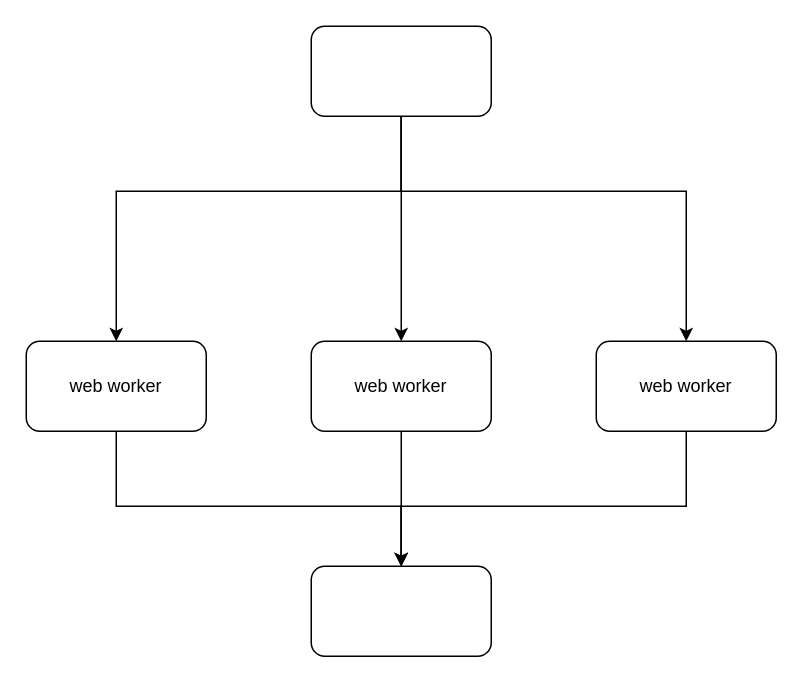
The diagram is 803 pixels wide and 683 high, and some of its shapes have lost their labels. The shapes that lost their labels are listed below. From the top down, each one's centre as x and y in pixels, then its label:
At point (400, 70): "nginx".
At point (400, 610): "database".
